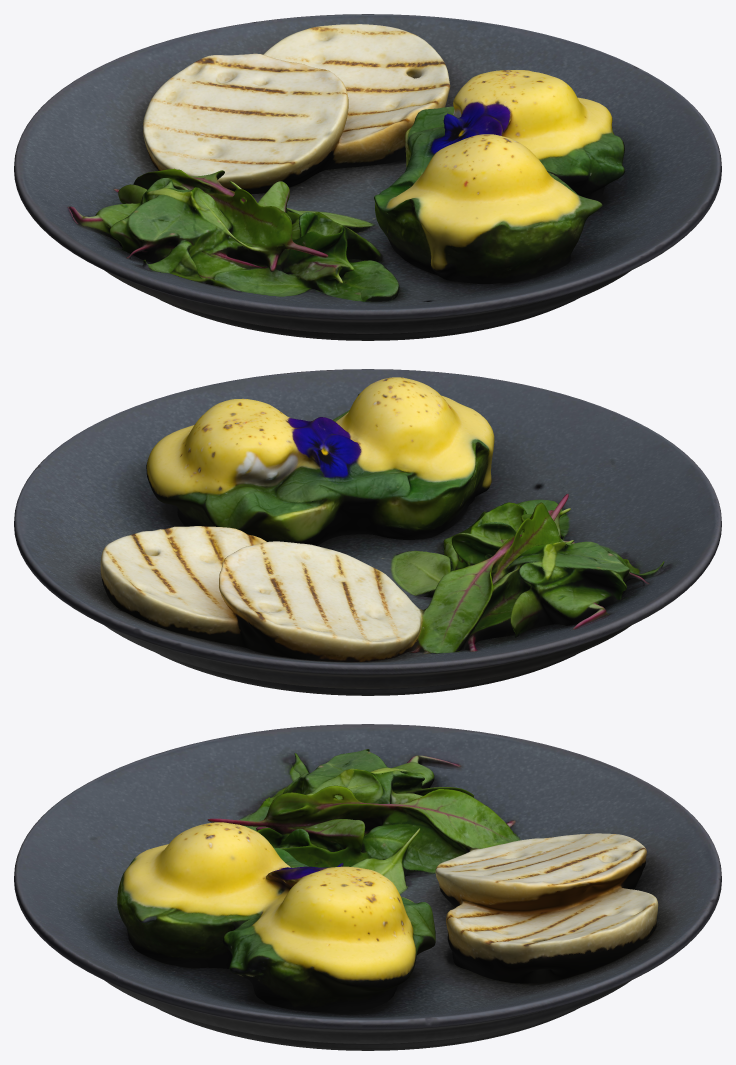
The model's file is French Florentine.FBX.
3 renders of one model, top to bottom at view 1: azimuth 30°, elevation 25°; view 2: azimuth 150°, elevation 25°; view 3: azimuth 270°, elevation 25°, orthographic.
Parts seen in each view (by area): view 1: Dish26_The French Florentine; view 2: Dish26_The French Florentine; view 3: Dish26_The French Florentine.
Part boxes in pixels (x1,y1,x2,y2): Dish26_The French Florentine: (14,14,721,340); Dish26_The French Florentine: (14,369,721,695); Dish26_The French Florentine: (14,724,721,1050).
Size of the model in its own units: 25.59 by 5.26 by 25.59.
Materials: 1 (1 with a texture image).
